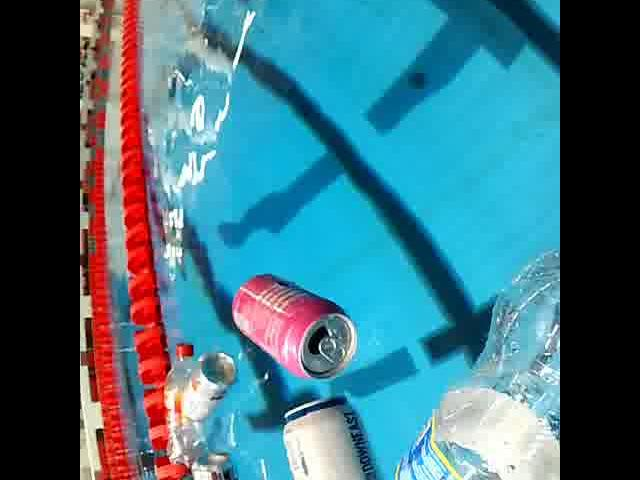Bottle: (387, 242, 560, 480), (161, 338, 209, 470)
Can: (229, 261, 363, 387), (275, 389, 394, 480), (181, 348, 235, 422), (188, 444, 252, 480), (173, 467, 203, 480)
